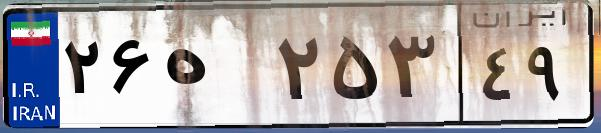2: (270, 28, 330, 110), (57, 26, 110, 100)
3: (385, 28, 445, 110)
4: (475, 38, 525, 113)
5: (330, 28, 385, 110)
6: (110, 28, 158, 98)
9: (525, 38, 570, 115)
ه: (158, 20, 270, 120)
